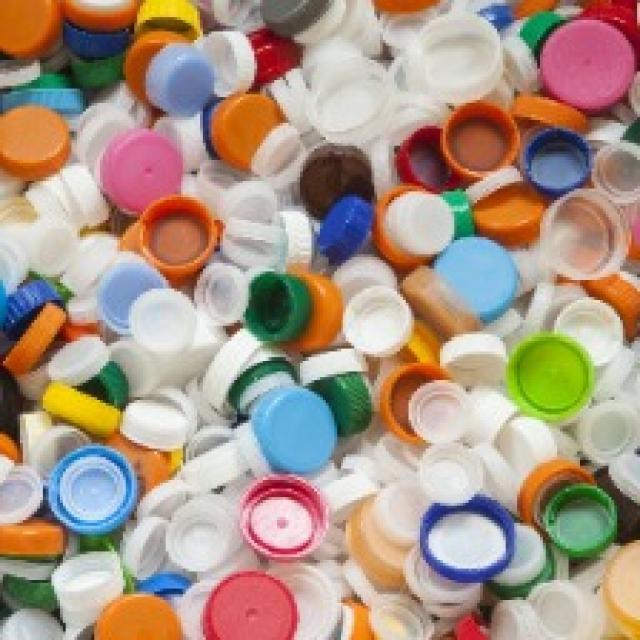heap: (10, 38, 599, 591)
plastic: (249, 370, 352, 486), (536, 28, 640, 118), (130, 183, 219, 281), (507, 323, 597, 416), (296, 193, 385, 258)
